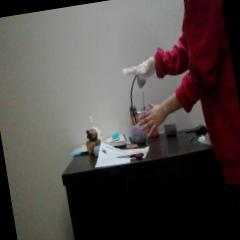gloved: (122, 56, 158, 80)
not-gloved: (135, 102, 169, 138)
